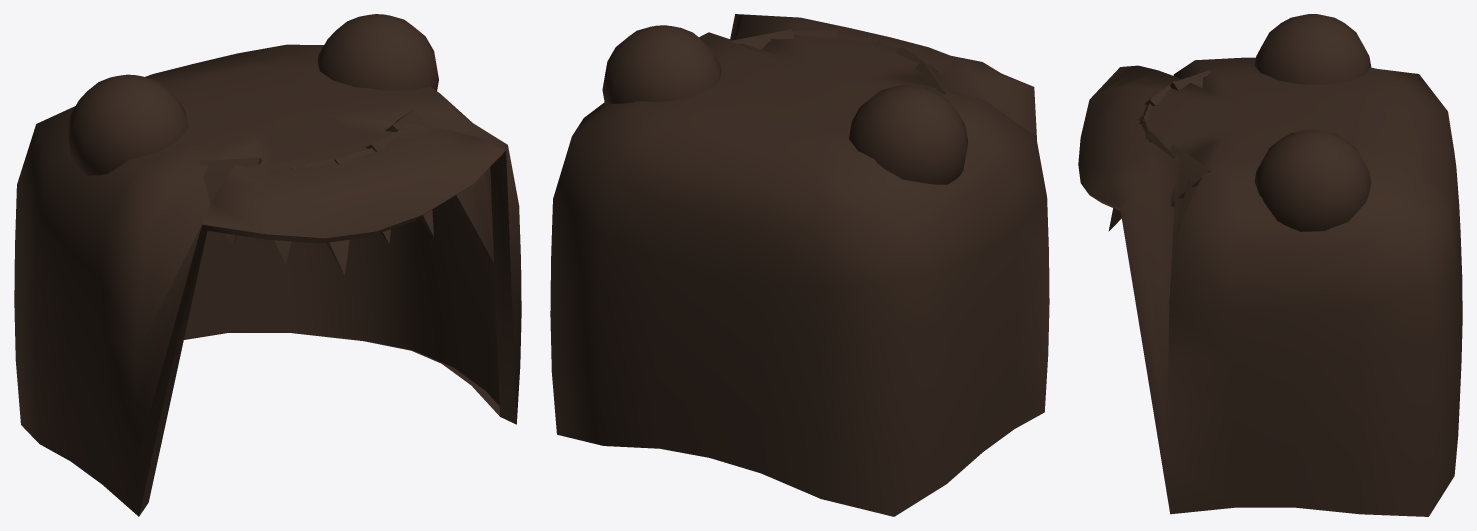
Rendered from Cuerpo_Pelo_DosRodetes.fbx.
3 renders of one model, left to right at view 1: azimuth 30°, elevation 25°; view 2: azimuth 150°, elevation 25°; view 3: azimuth 270°, elevation 25°, orthographic. The views are drawn at different scales.
Visible parts, largest first — view 1: Cuerpo_Pelo_DosRodetes; view 2: Cuerpo_Pelo_DosRodetes; view 3: Cuerpo_Pelo_DosRodetes.
Part boxes in pixels (x1,y1,x2,y2): Cuerpo_Pelo_DosRodetes: (14, 14, 521, 516); Cuerpo_Pelo_DosRodetes: (550, 14, 1049, 516); Cuerpo_Pelo_DosRodetes: (1078, 14, 1462, 516).
Size of the model in its own units: 1.29 by 1.19 by 1.15.
